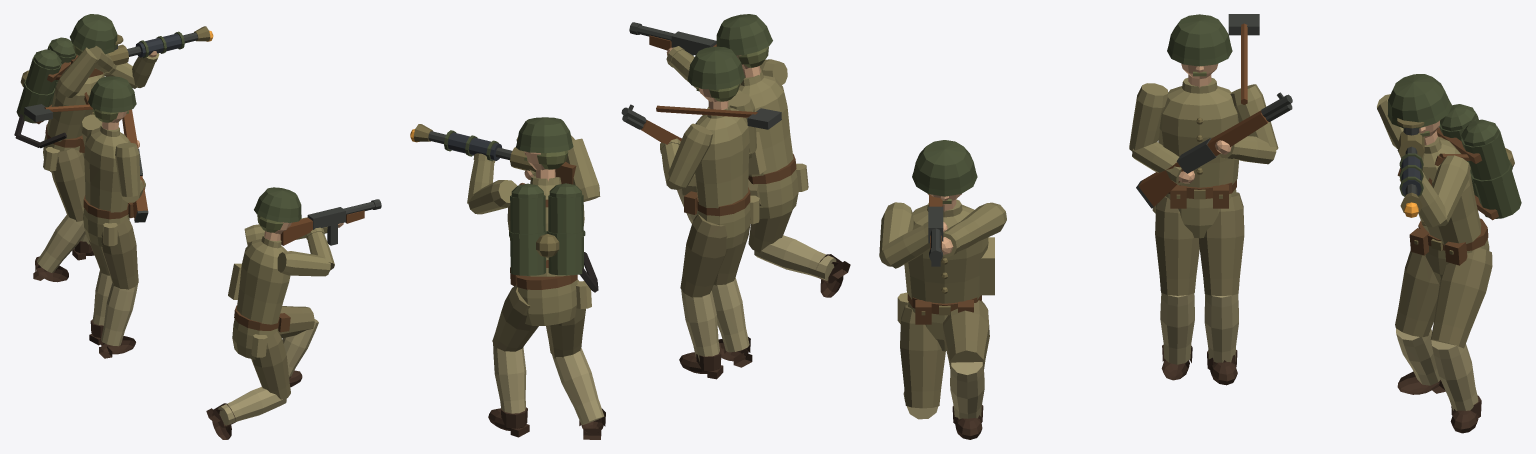
The model's file is us_engineers.obj.
The picture shows the model from 3 angles, left to right: view 1: azimuth 30°, elevation 25°; view 2: azimuth 150°, elevation 25°; view 3: azimuth 270°, elevation 25°; orthographic projection. The views are drawn at different scales.
Bounding box in the file's own units: 1.8 × 2 × 3.02.
